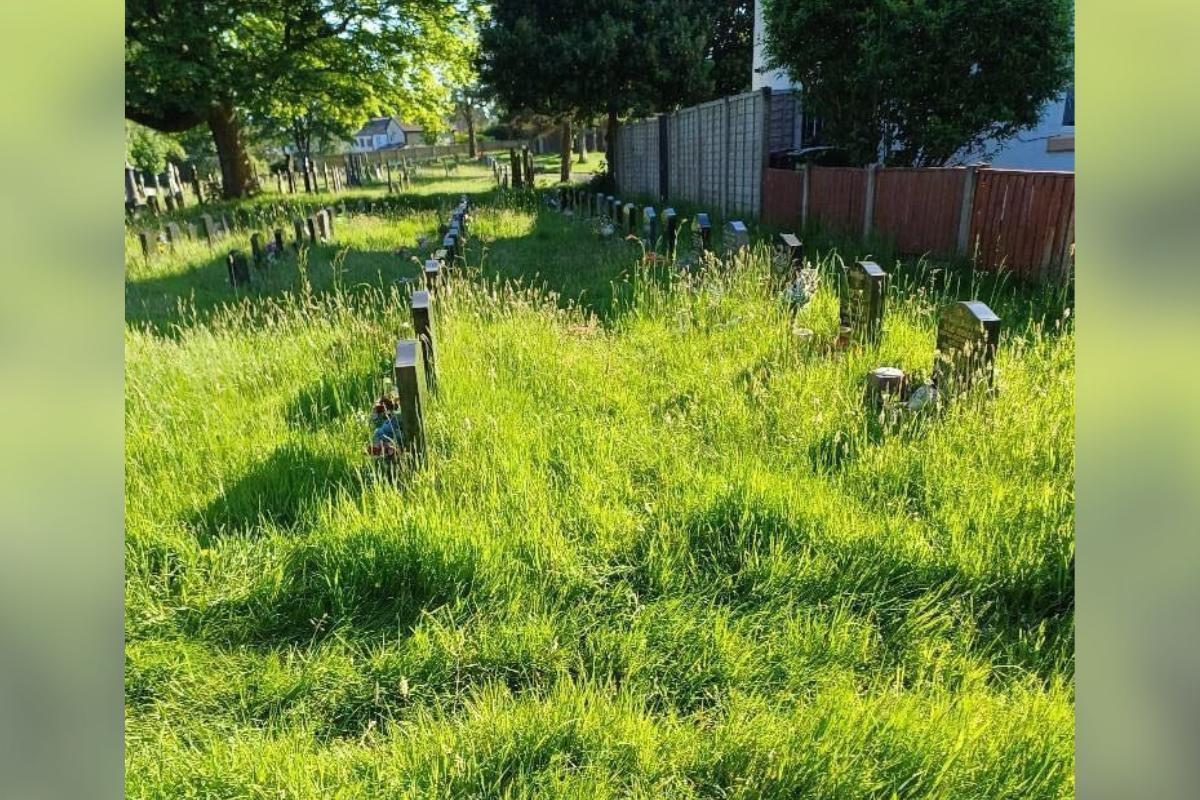overgrown grass: (123, 184, 1080, 799)
